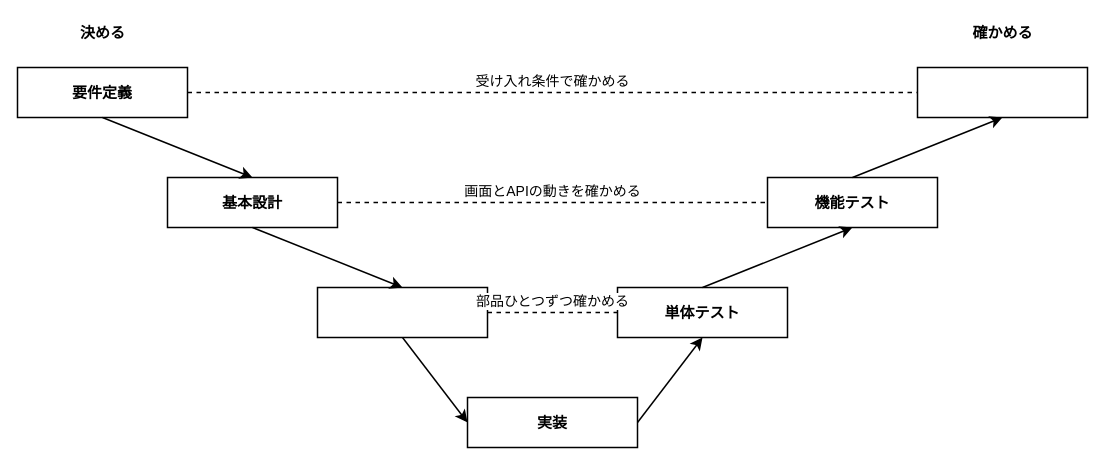
Some shapes in this 1106 by 465 pixel diagram are drawn without their labels. Each missing label, with the box of its shape:
受け入れテスト: (916, 66, 1088, 118)
詳細設計: (316, 286, 488, 338)
